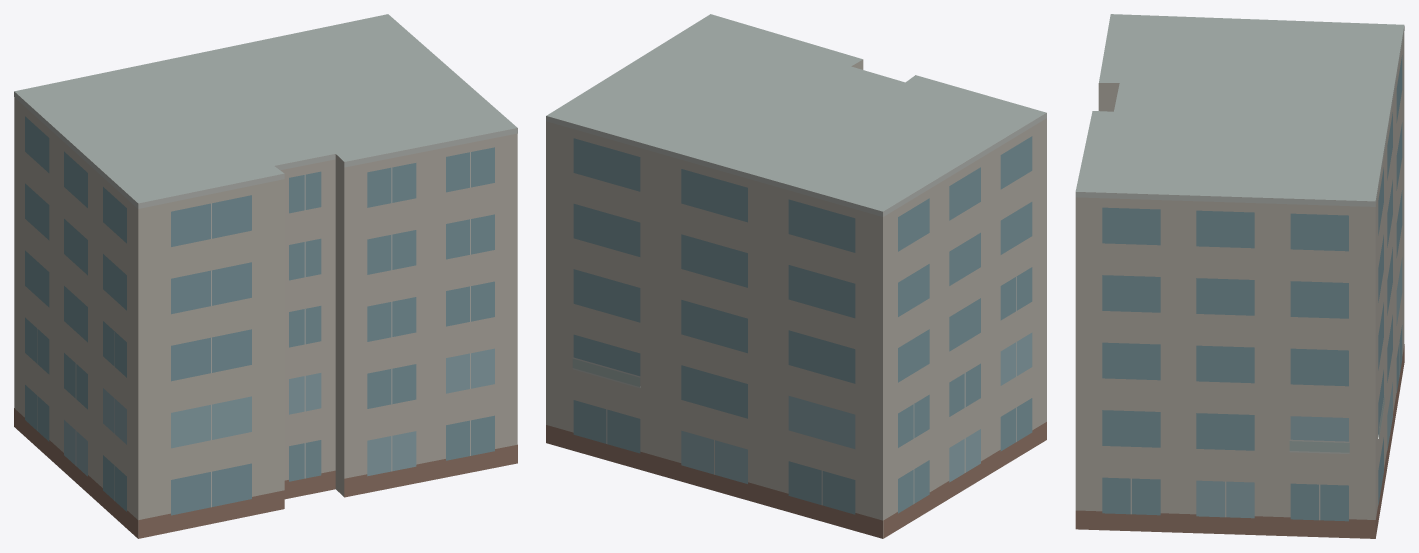
File: survey-upis-32499332.glb
3 views of the same model, side by side, from view 1: azimuth 30°, elevation 25°; view 2: azimuth 150°, elevation 25°; view 3: azimuth 270°, elevation 25° (orthographic). The views are drawn at different scales.
Visible parts, largest first — view 1: survey-upis-32499332.tmp; view 2: survey-upis-32499332.tmp; view 3: survey-upis-32499332.tmp.
Boxes of the visible parts, left/top/right/bottom form: survey-upis-32499332.tmp: left=14, top=14, right=517, bottom=538; survey-upis-32499332.tmp: left=546, top=14, right=1046, bottom=538; survey-upis-32499332.tmp: left=1075, top=14, right=1404, bottom=538.
Size of the model in its own units: 17.55 by 14.73 by 13.02.
